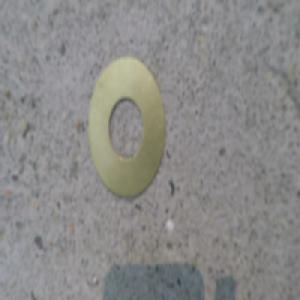Washer: (91, 55, 171, 195)
